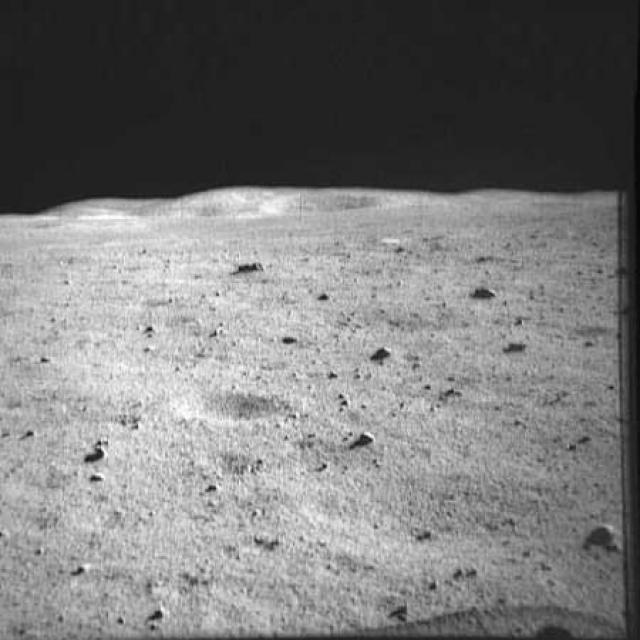crater: (171, 381, 295, 433)
rock: (146, 598, 179, 631), (586, 524, 620, 556), (227, 261, 268, 279), (365, 343, 400, 364), (500, 336, 539, 354), (470, 281, 507, 299), (83, 439, 113, 460), (198, 476, 224, 498), (415, 523, 442, 543), (69, 557, 92, 580), (354, 428, 379, 448), (315, 286, 337, 305), (22, 422, 44, 440), (212, 320, 228, 342), (142, 321, 160, 339), (86, 472, 105, 484)
